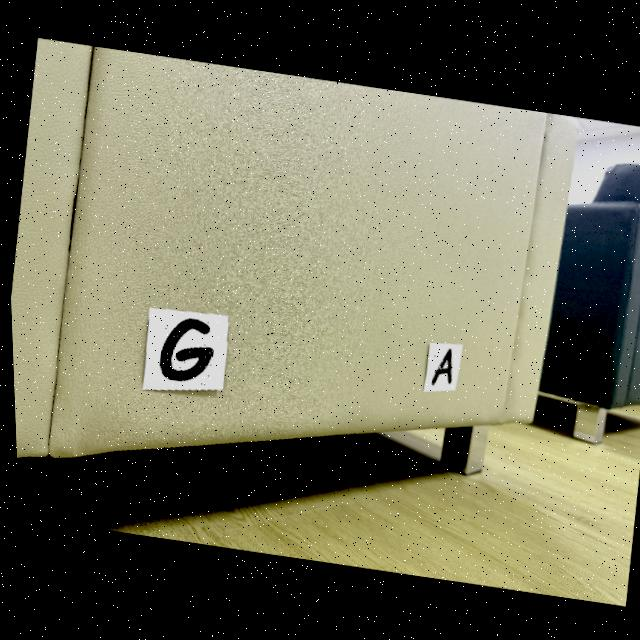A: (429, 349, 450, 384)
G: (157, 318, 212, 381)
